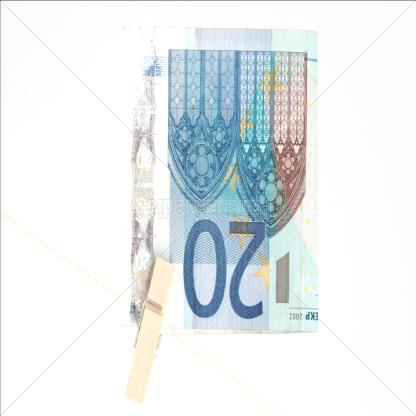euro_banknote: (72, 80, 374, 278)
